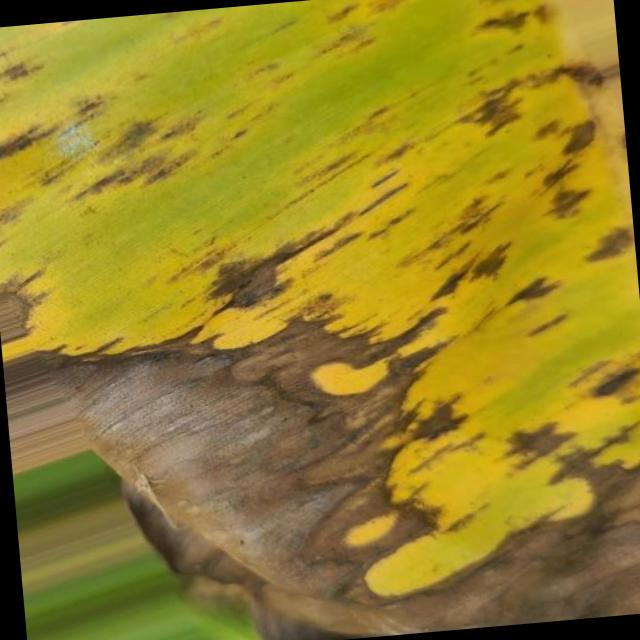Banana_Black_Sigatoka: (189, 229, 640, 632), (351, 0, 633, 252), (0, 44, 192, 375)
